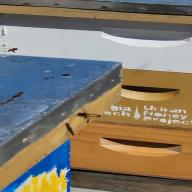Bee: (66, 108, 109, 125)
